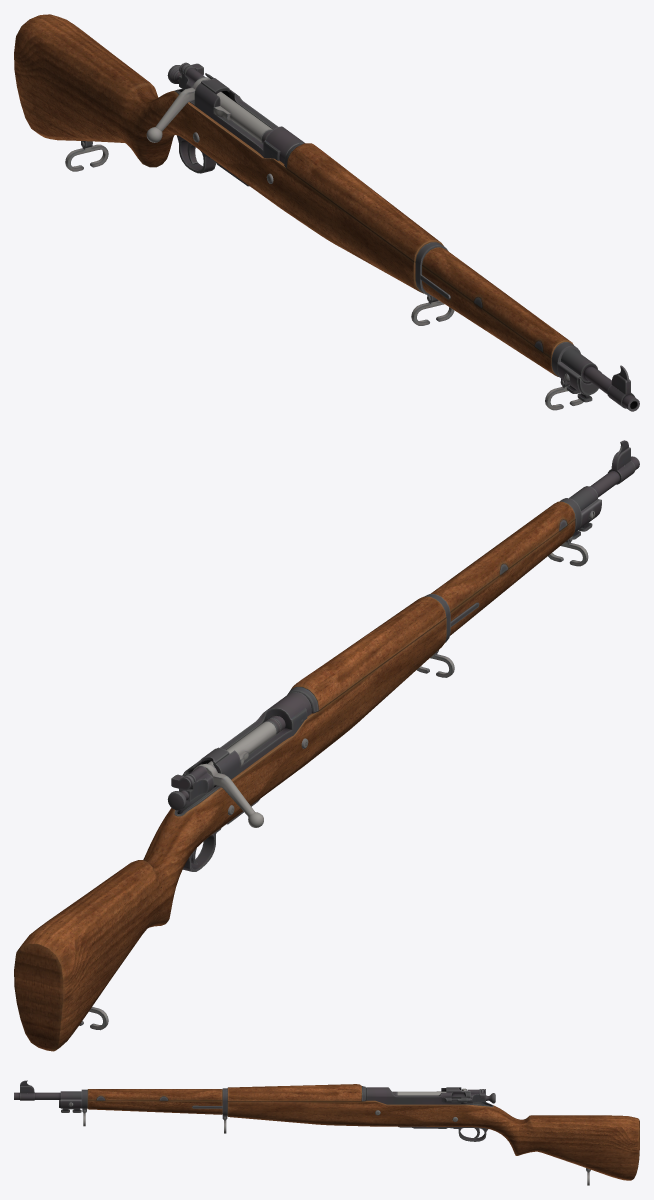
Rendered from raw.glb.
The picture shows the model from 3 angles, top to bottom: view 1: azimuth 30°, elevation 25°; view 2: azimuth 150°, elevation 25°; view 3: azimuth 270°, elevation 25°; orthographic projection. The views are drawn at different scales.
Visible parts, largest first — view 1: m1903_LOD0; view 2: m1903_LOD0; view 3: m1903_LOD0.
Part boxes in pixels (x1,y1,x2,y2): m1903_LOD0: (14,14,639,411); m1903_LOD0: (14,440,639,1051); m1903_LOD0: (14,1080,639,1185).
Size of the model in its own units: 0.1014 by 0.2214 by 1.24.
Materials: 1 (1 with a texture image).
